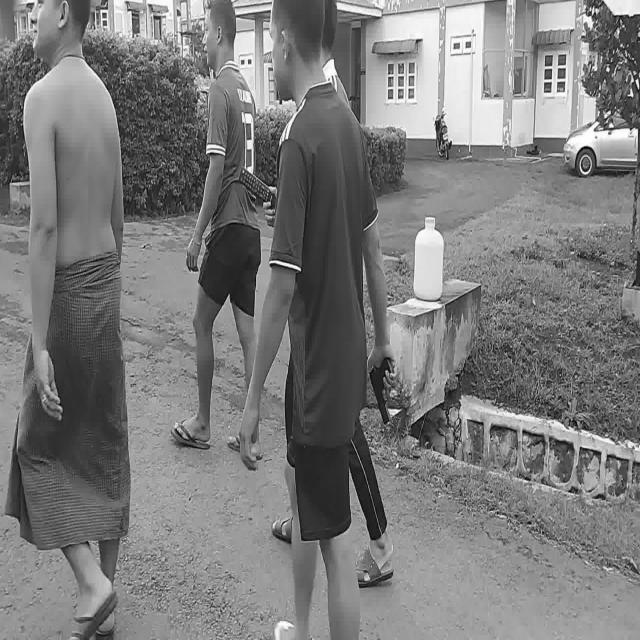gun: (368, 356, 394, 424)
